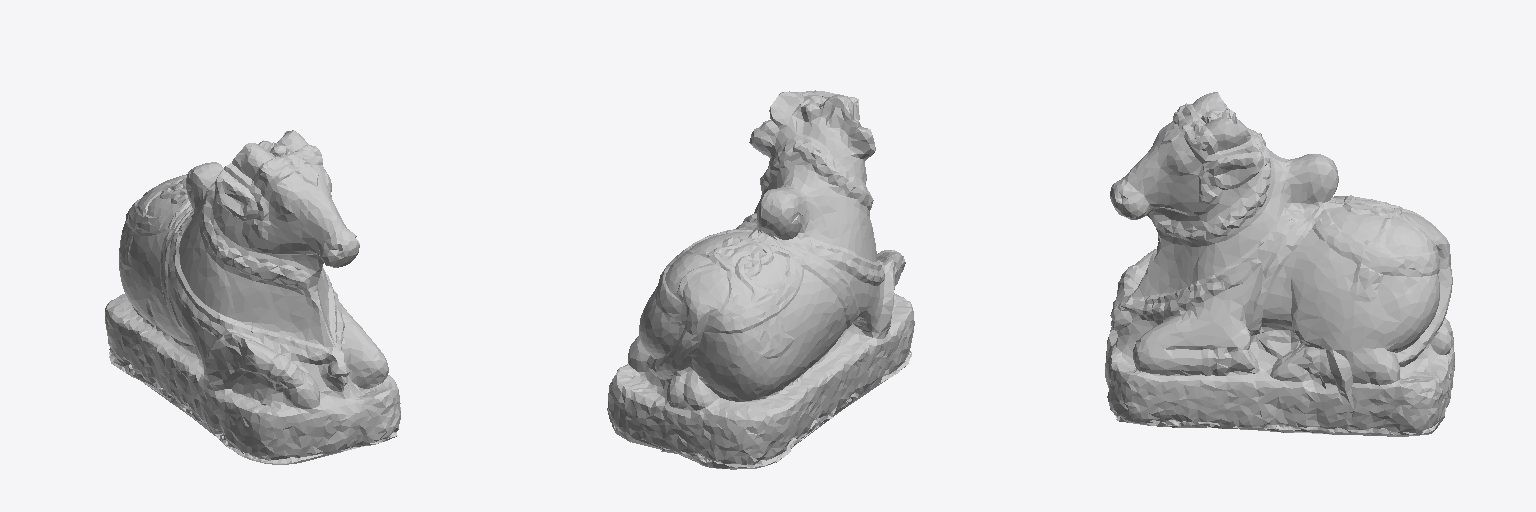
The model's file is 04nandi.obj.
3 renders of one model, left to right at view 1: azimuth 30°, elevation 25°; view 2: azimuth 150°, elevation 25°; view 3: azimuth 270°, elevation 25°, orthographic.
Visible parts, largest first — view 1: nandi; view 2: nandi; view 3: nandi.
Part boxes in pixels (x1,y1,x2,y2): nandi: (105,130,400,464); nandi: (607,90,914,469); nandi: (1105,92,1454,436).
Bounding box in the file's own units: 1.12 × 1.72 × 1.88.